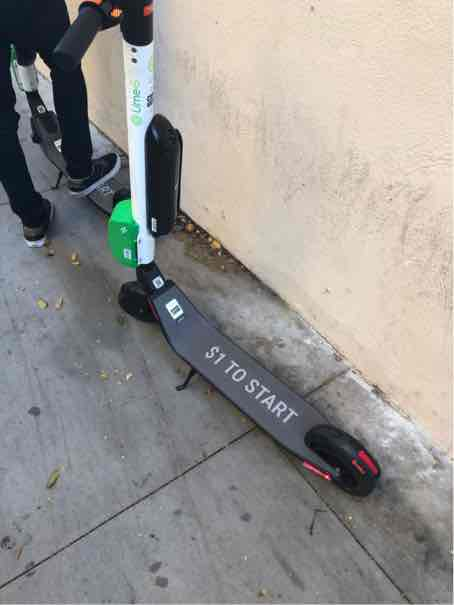scooter: (46, 2, 387, 506)
